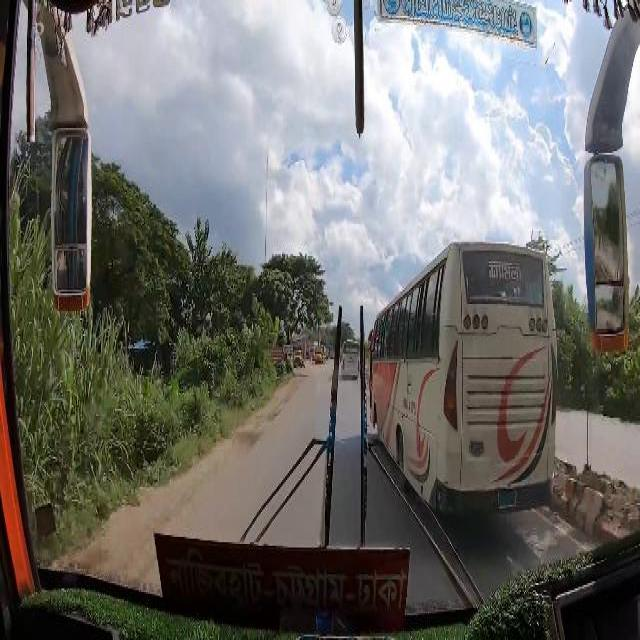vehicle: (369, 239, 553, 518), (342, 341, 361, 380), (315, 345, 323, 361)
